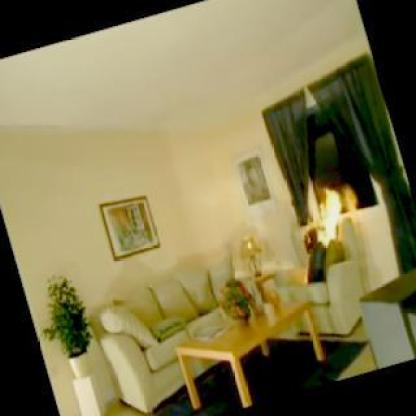Fire: (300, 183, 352, 247)
